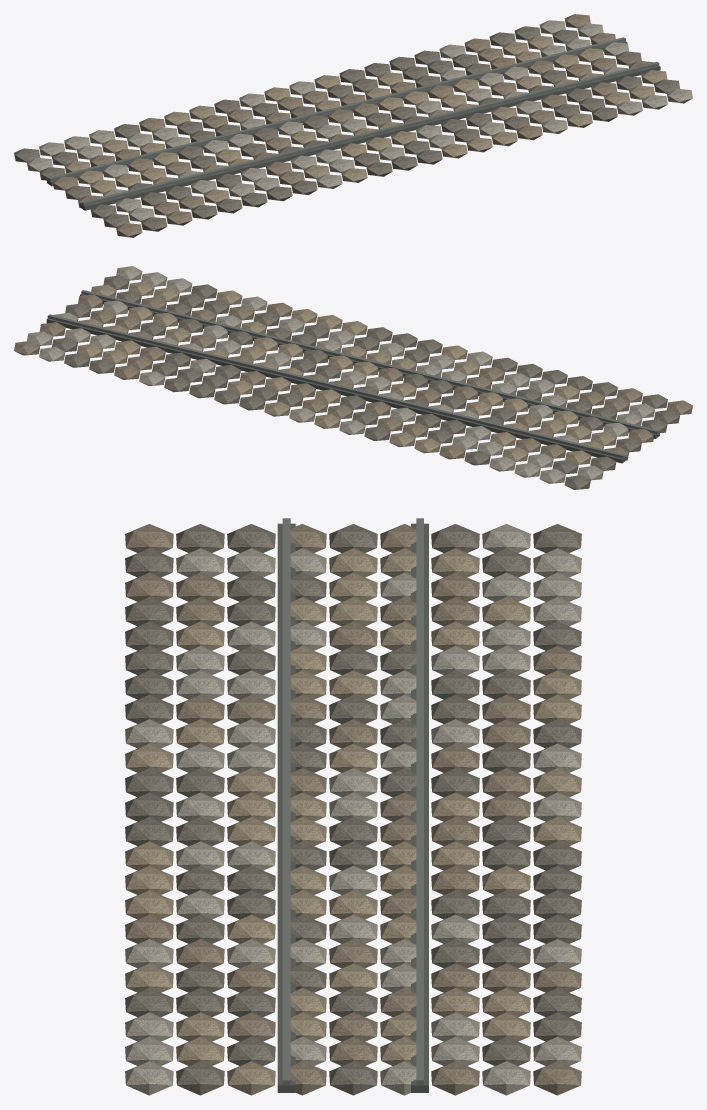
Rendered from mover-track.glb.
The picture shows the model from 3 angles, top to bottom: view 1: azimuth 30°, elevation 25°; view 2: azimuth 150°, elevation 25°; view 3: azimuth 270°, elevation 25°; orthographic projection. The views are drawn at different scales.
Visible parts, largest first — view 1: Presentation; view 2: Presentation; view 3: Presentation.
Part boxes in pixels (x1,y1,x2,y2): Presentation: (14,14,692,237); Presentation: (14,266,692,489); Presentation: (125,518,581,1095).
Size of the model in its own units: 1 by 0.017 by 0.3436.
Materials: 2 (1 with a texture image).
